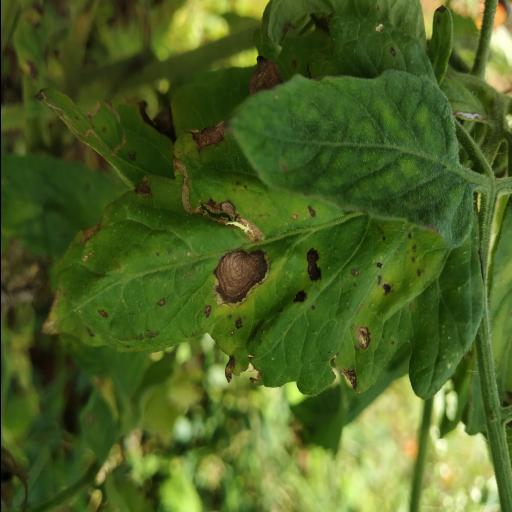Early Blight: (36, 68, 486, 400)
